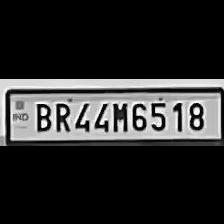1: (166, 98, 186, 130)
4: (71, 97, 91, 130), (91, 98, 109, 130)
5: (148, 97, 168, 130)
6: (128, 98, 148, 130)
8: (184, 98, 208, 130)
B: (32, 98, 52, 130)
M: (108, 97, 128, 130)
R: (51, 98, 71, 132)
